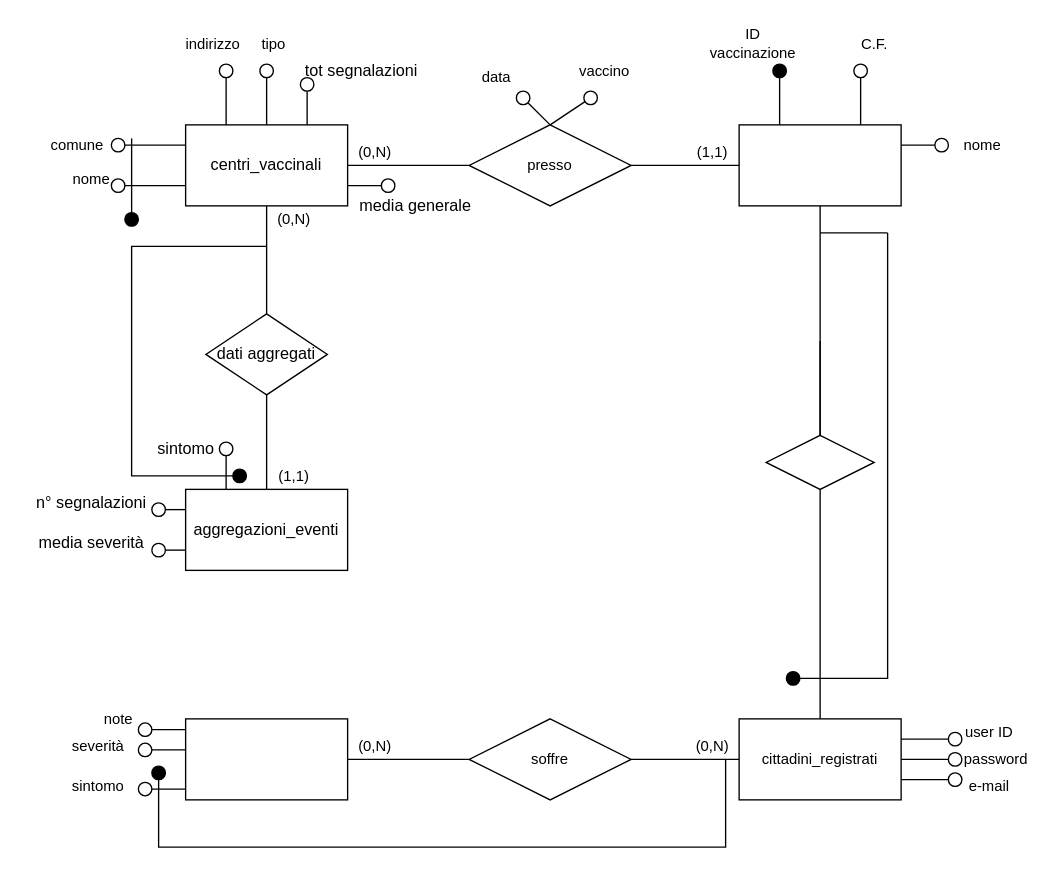
The diagram is 1058 pixels wide and 887 high, and some of its shapes have lost their labels. Here are the shapes that lost their labels. From the top down, the centre of each, then its label:
At point (819, 165): "vaccinati".
At point (819, 461): "corrisponde".
At point (266, 759): "eventi_avversi".
